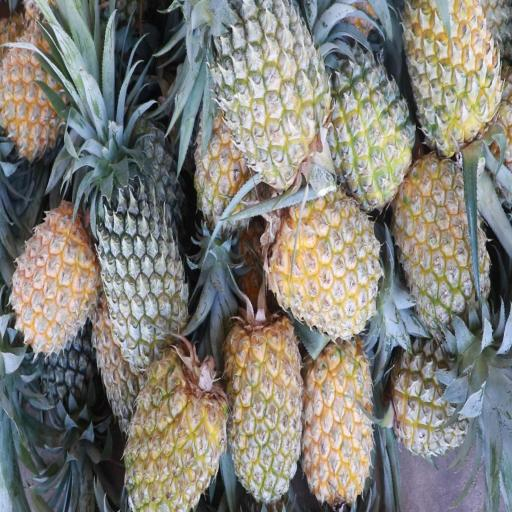------------------------------: (210, 0, 324, 176), (409, 0, 503, 151), (400, 162, 490, 318), (396, 338, 477, 452)
Pineapple - v8 v1: (125, 343, 234, 512), (278, 182, 384, 330), (228, 308, 302, 494), (14, 206, 102, 349), (333, 52, 414, 204), (304, 343, 372, 499), (196, 81, 259, 223), (0, 32, 73, 152)
